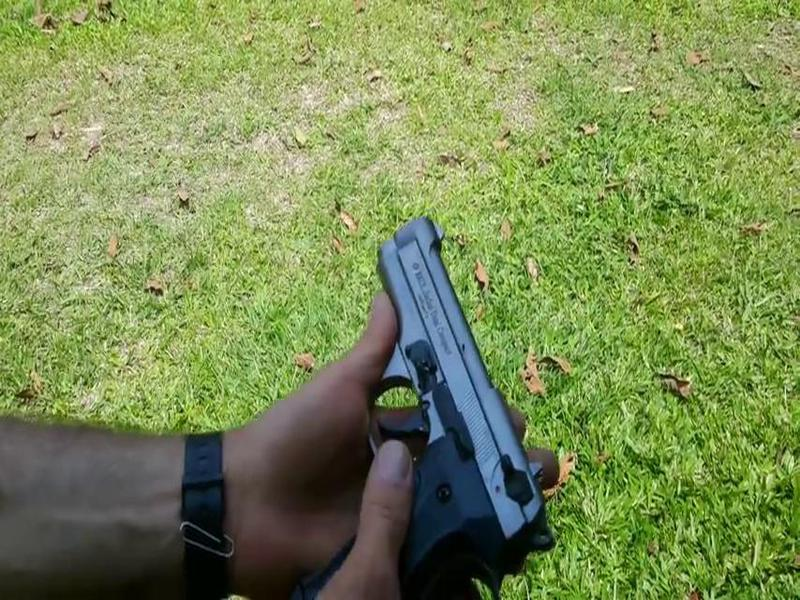Pistola: (292, 211, 595, 600)
